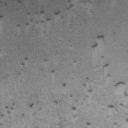oxide scale of temperature system: (42, 58, 128, 126), (0, 0, 92, 28), (0, 101, 34, 126), (18, 56, 29, 76), (92, 35, 105, 48)
